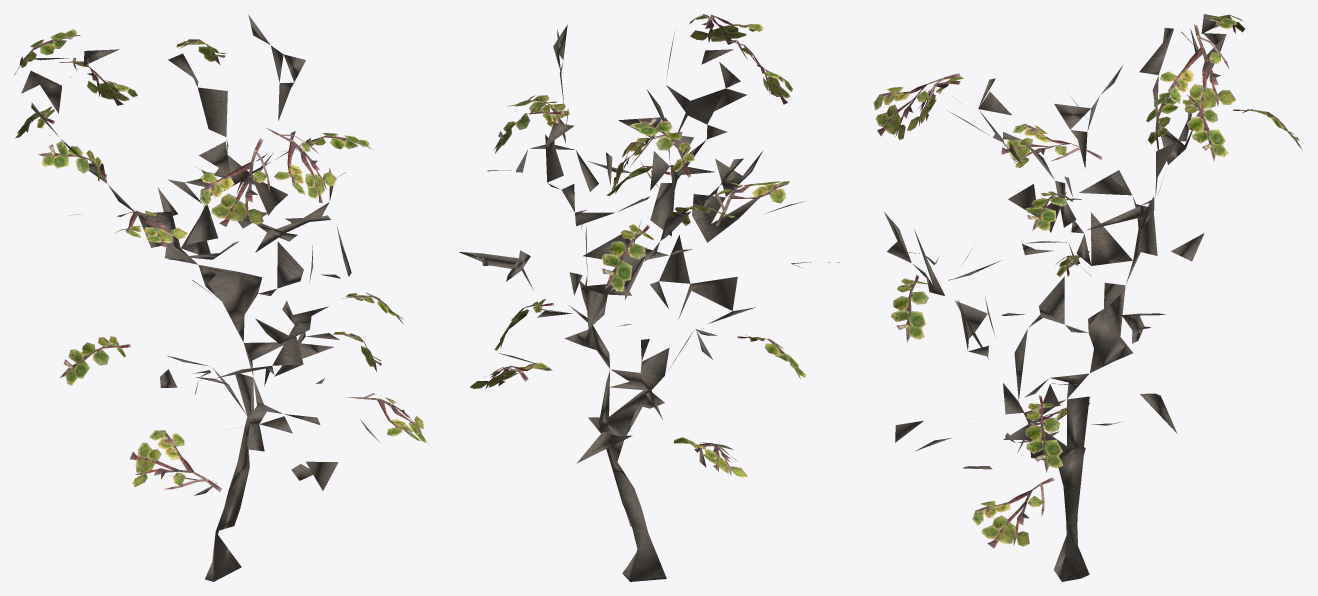
Rendered from tree_leafy_far.glb.
3 renders of one model, left to right at view 1: azimuth 30°, elevation 25°; view 2: azimuth 150°, elevation 25°; view 3: azimuth 270°, elevation 25°, orthographic. The views are drawn at different scales.
Parts seen in each view (by area): view 1: Broadleaf Dense Tree Adult; view 2: Broadleaf Dense Tree Adult; view 3: Broadleaf Dense Tree Adult.
Part boxes in pixels (box(x1,y1,x2,y2)): Broadleaf Dense Tree Adult: box(14, 14, 428, 581); Broadleaf Dense Tree Adult: box(459, 14, 839, 581); Broadleaf Dense Tree Adult: box(873, 14, 1302, 581).
Bounding box in the file's own units: 4.91 × 7.25 × 5.23.
2 materials, 2 textured.
